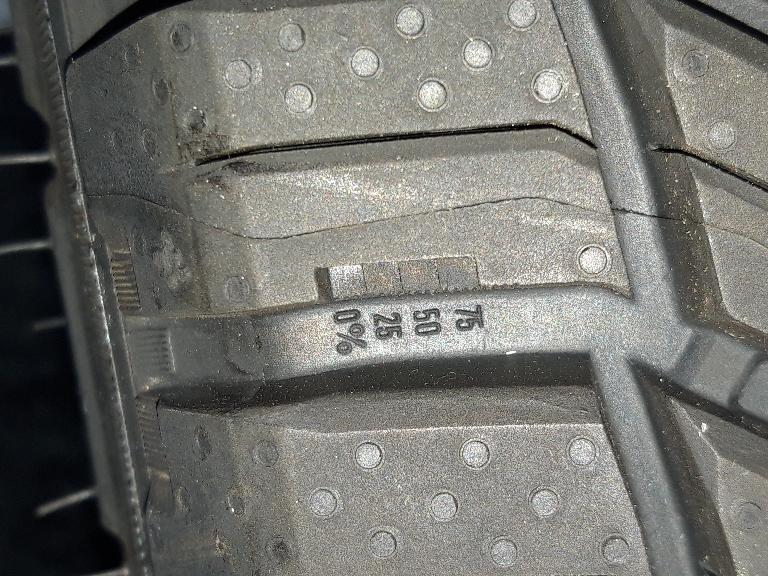temoin:100: (302, 247, 526, 316)
